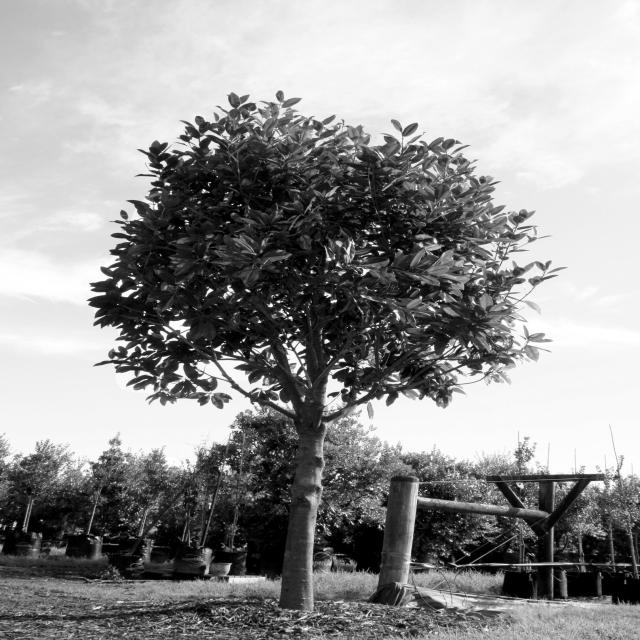Magnolia grandiflora: (84, 90, 538, 606)
